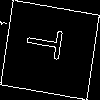T: (25, 24, 71, 62)
